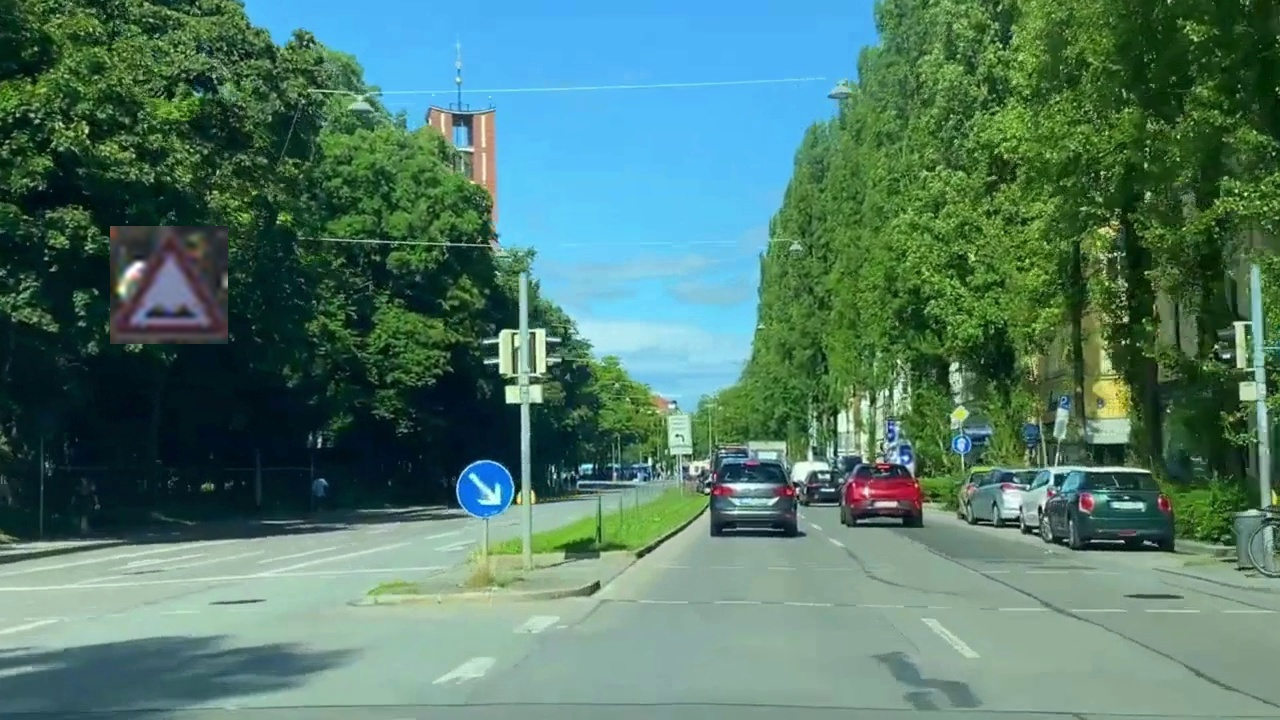Bumpy road: (110, 226, 228, 344)
